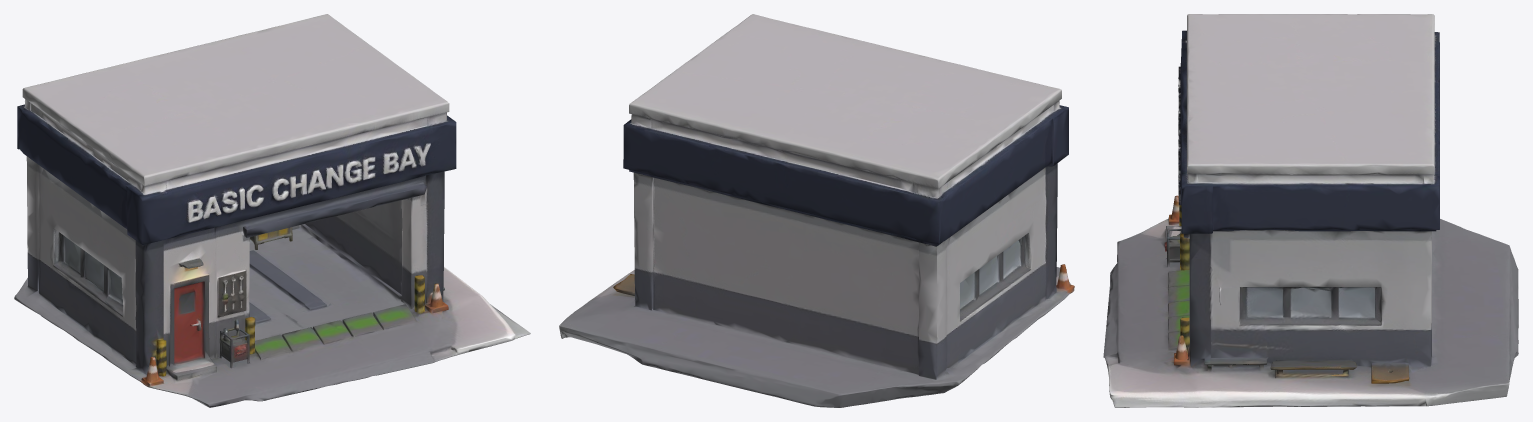
Rendered from basic_change_bay_1k_real.glb.
The picture shows the model from 3 angles, left to right: view 1: azimuth 30°, elevation 25°; view 2: azimuth 150°, elevation 25°; view 3: azimuth 270°, elevation 25°; orthographic projection.
Parts seen in each view (by area): view 1: tripo_node_35bcb174-2511-4d12-8179-48deba745744; view 2: tripo_node_35bcb174-2511-4d12-8179-48deba745744; view 3: tripo_node_35bcb174-2511-4d12-8179-48deba745744.
Part boxes in pixels (left/top/right/bottom): tripo_node_35bcb174-2511-4d12-8179-48deba745744: left=14, top=14, right=530, bottom=407; tripo_node_35bcb174-2511-4d12-8179-48deba745744: left=559, top=14, right=1074, bottom=407; tripo_node_35bcb174-2511-4d12-8179-48deba745744: left=1103, top=14, right=1518, bottom=407.
Size of the model in its own units: 1 by 0.567 by 0.9659.
1 material, 1 textured.
